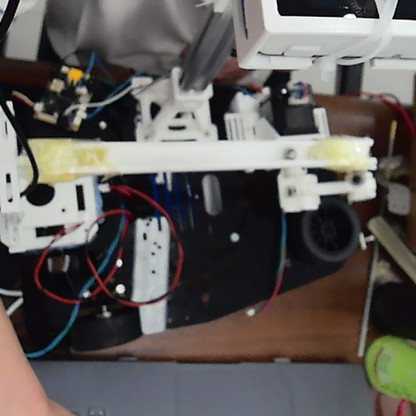ironball: (282, 143, 298, 161)
